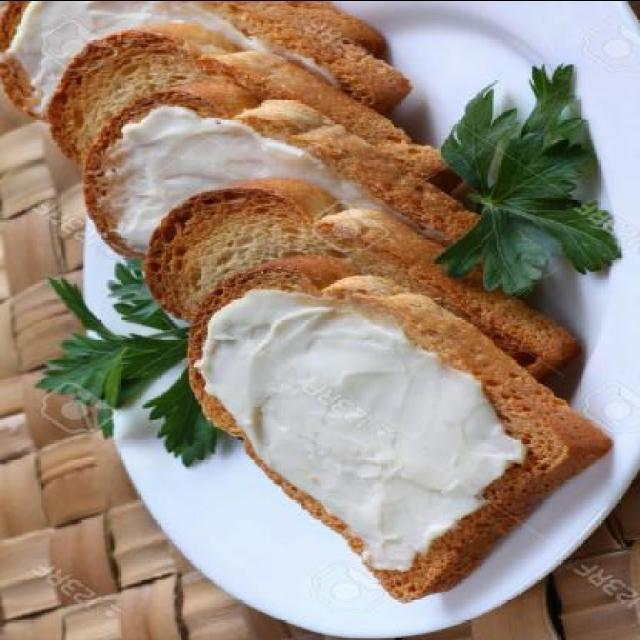Spread: (200, 293, 526, 564)
